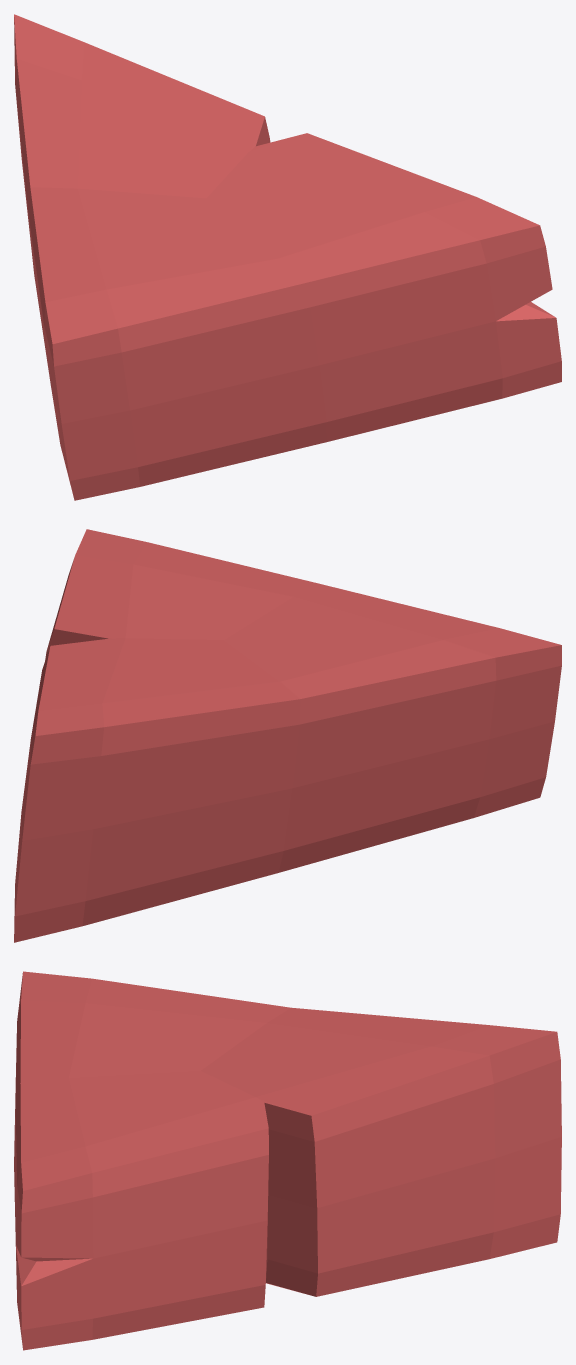
Rendered from Red3.fbx.
3 views of the same model, one above another, from view 1: azimuth 30°, elevation 25°; view 2: azimuth 150°, elevation 25°; view 3: azimuth 270°, elevation 25° (orthographic). The views are drawn at different scales.
Visible parts, largest first — view 1: triangle; view 2: triangle; view 3: triangle.
Part boxes in pixels (bbox=[...]): triangle: bbox=[14, 14, 561, 500]; triangle: bbox=[14, 529, 561, 942]; triangle: bbox=[14, 971, 561, 1350].
Bounding box in the file's own units: 1.86 × 0.7853 × 1.88.
